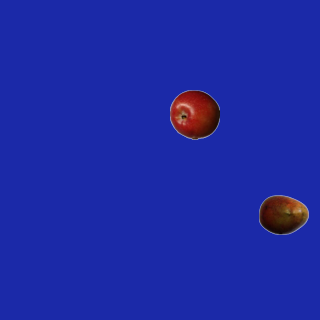Apple Braeburn: (169, 89, 219, 139)
Mango Red: (258, 189, 308, 239)
